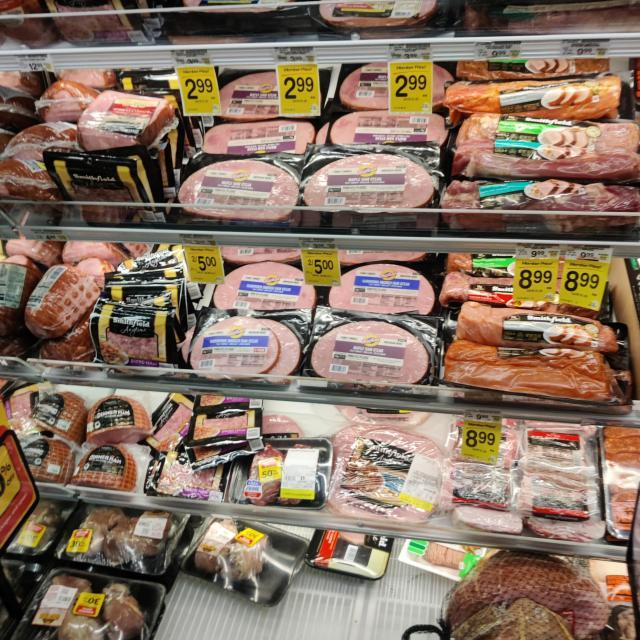Meat: (427, 290, 639, 414), (425, 550, 639, 640), (315, 416, 446, 529), (193, 514, 321, 622), (464, 103, 640, 178), (302, 314, 440, 405), (430, 167, 640, 225), (302, 152, 442, 230), (88, 261, 178, 376), (449, 420, 535, 538), (172, 152, 298, 226), (182, 312, 298, 384), (530, 422, 604, 534), (67, 75, 171, 149), (59, 510, 183, 572), (159, 399, 269, 459), (24, 250, 98, 339), (87, 386, 154, 442), (71, 442, 141, 492)
